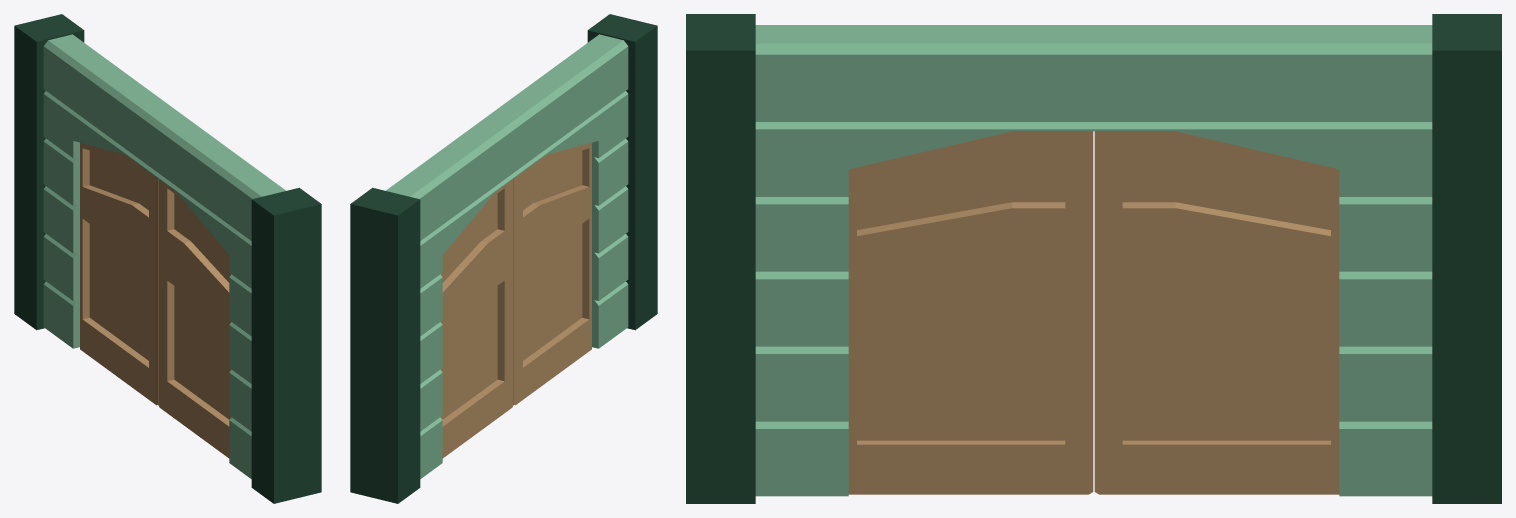
Rendered from Garage01_house3.obj.
3 views of the same model, side by side, from view 1: azimuth 30°, elevation 25°; view 2: azimuth 150°, elevation 25°; view 3: azimuth 270°, elevation 25° (orthographic). The views are drawn at different scales.
Parts seen in each view (by area): view 1: Garage01_house03_Cube.004; view 2: Garage01_house03_Cube.004; view 3: Garage01_house03_Cube.004.
Boxes of the visible parts, box(x1,y1,x2,y2) form: Garage01_house03_Cube.004: box(14, 14, 321, 503); Garage01_house03_Cube.004: box(350, 14, 657, 503); Garage01_house03_Cube.004: box(686, 14, 1501, 503).
Bounding box in the file's own units: 0.5769 × 3.35 × 5.44.
